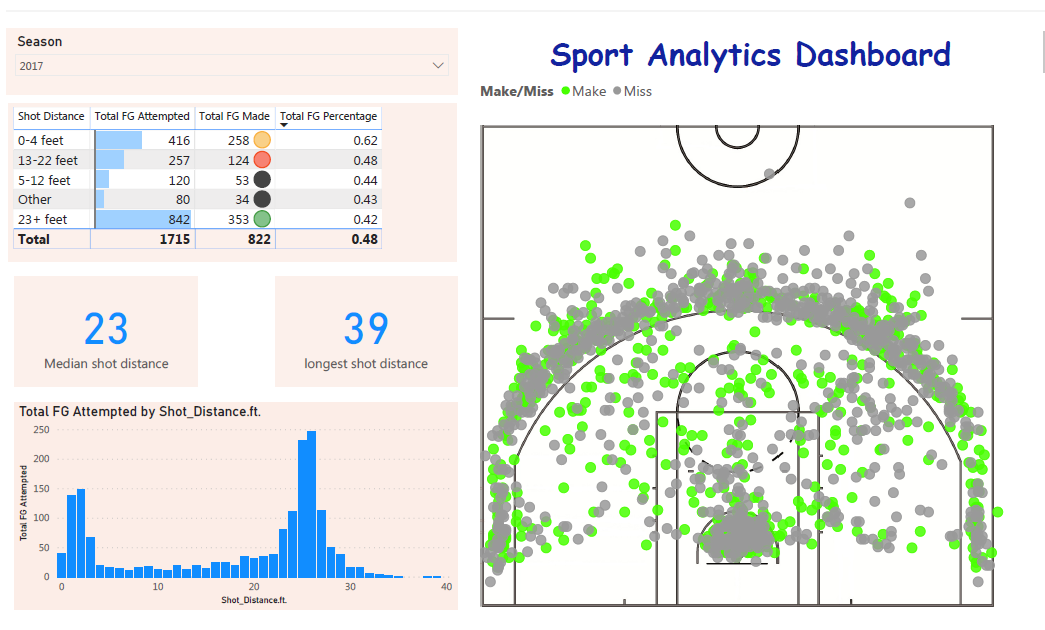

What the dashboard file says about the page in this screenshot:
{"tool":"powerbi","page":{"name":"Page 2","canvas":[1280,720],"ordinal":1},"visuals":[{"type":"slicer","fields":{"Values":["CurryShots.Season"]},"box":[0,7.2,546.9,80.8],"z":0},{"type":"image","box":[502.3,119.3,771,594.6],"z":1000},{"type":"scatterChart","fields":{"Series":["CurryShots.Make/Miss"],"X":["CurryShots.Left.px. (location)"],"Y":["CurryShots.Top.px. (Location)"]},"box":[569.4,60.5,650.1,653.4],"z":2000},{"type":"clusteredColumnChart","fields":{"Category":["CurryShots.Shot_Distance.ft."],"Y":["CurryShots.Total FG Attempted"]},"box":[10.1,461.7,536.8,251.1],"z":3000},{"type":"tableEx","fields":{"Values":["CurryShots.Shot Distance","CurryShots.Total FG Attempted","CurryShots.Total FG Made","CurryShots.Total FG Percentage"]},"box":[2.9,98.1,544,191.9],"z":4000},{"type":"card","fields":{"Values":["CurryShots.Median shot distance"]},"box":[10.1,308.8,222.2,132.7],"z":5000},{"type":"card","fields":{"Values":["CurryShots.longest shot distance"]},"box":[326.1,308.8,220.8,132.7],"z":6000},{"type":"textbox","box":[558.4,5.8,714.2,60.6],"z":7000}]}

Visuals, with their boxes on the page's 1280x720 design canvas (x1, y1, x2, y2). These are canvas units, not pixel positions in the 1045x630 screenshot, which may show the page scaled, cropped or inside an application window:
slicer - CurryShots.Season: rect(0, 7, 547, 88)
image: rect(502, 119, 1273, 714)
scatterChart - CurryShots.Make/Miss x CurryShots.Left.px. (location): rect(569, 60, 1220, 714)
clusteredColumnChart - CurryShots.Shot_Distance.ft. x CurryShots.Total FG Attempted: rect(10, 462, 547, 713)
tableEx - CurryShots.Shot Distance x CurryShots.Total FG Attempted: rect(3, 98, 547, 290)
card - CurryShots.Median shot distance: rect(10, 309, 232, 442)
card - CurryShots.longest shot distance: rect(326, 309, 547, 442)
textbox: rect(558, 6, 1273, 66)
